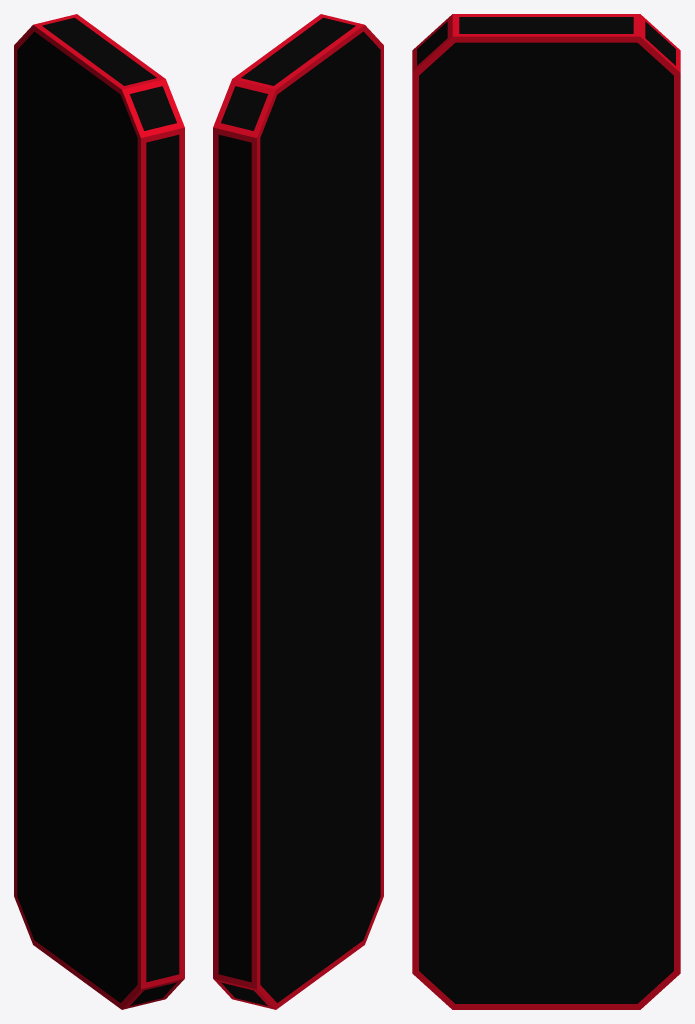
Rendered from Board.fbx.
3 renders of one model, left to right at view 1: azimuth 30°, elevation 25°; view 2: azimuth 150°, elevation 25°; view 3: azimuth 270°, elevation 25°, orthographic. The views are drawn at different scales.
Visible parts, largest first — view 1: Board; view 2: Board; view 3: Board.
Boxes of the visible parts, x1=… form: Board: x1=14, y1=14, x2=184, y2=1009; Board: x1=213, y1=14, x2=383, y2=1009; Board: x1=412, y1=14, x2=680, y2=1009.
Bounding box in the file's own units: 40 × 800 × 200.
